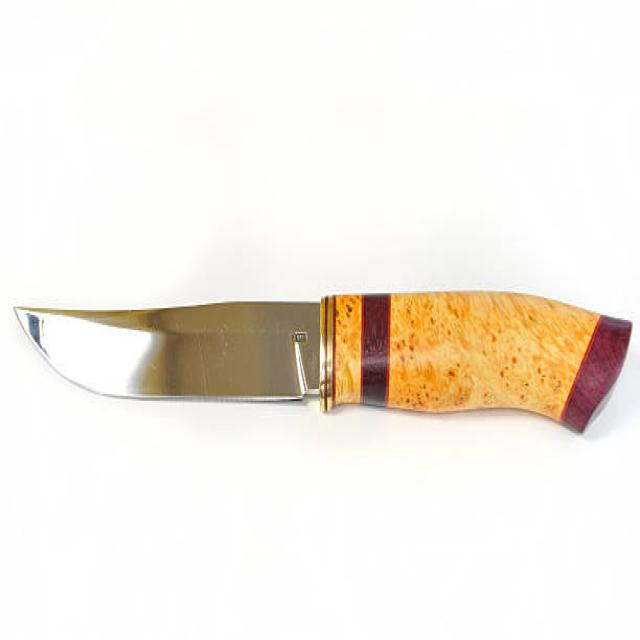knife: (13, 294, 635, 444)
